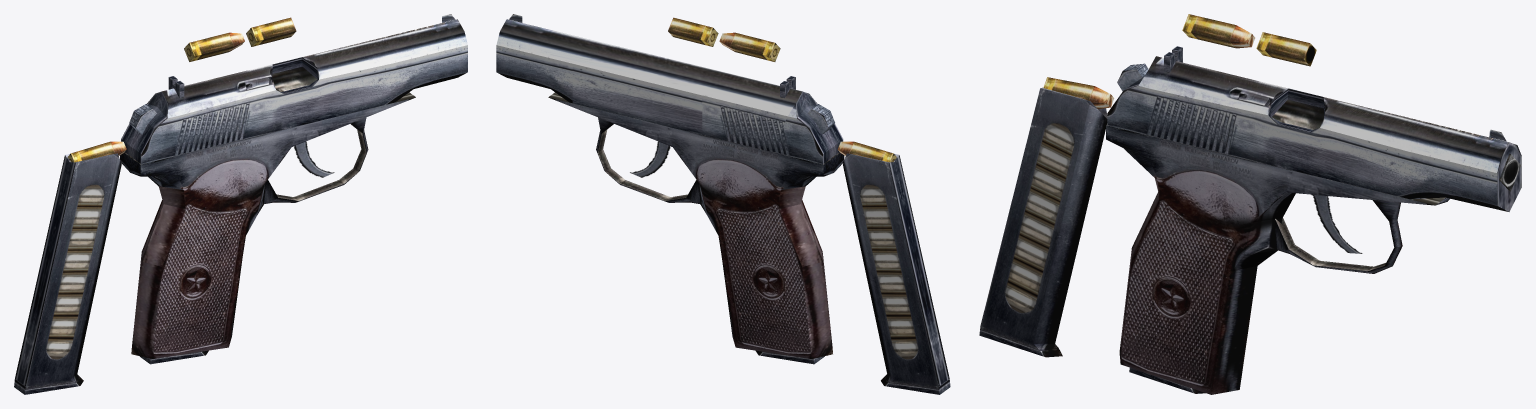
3 renders of one model, left to right at view 1: azimuth 30°, elevation 25°; view 2: azimuth 150°, elevation 25°; view 3: azimuth 330°, elevation 25°, orthographic. The views are drawn at different scales.
Visible parts, largest first — view 1: Makarov_Body, Makarov_Slide, Makarov_Mag_Full, 380, Makarov_Hammer, 380_Shell; view 2: Makarov_Body, Makarov_Slide, Makarov_Mag_Full, 380, Makarov_Hammer, 380_Shell; view 3: Makarov_Body, Makarov_Slide, Makarov_Mag_Full, 380, 380_Shell, Makarov_Hammer.
Part boxes in pixels (box(x1,y1,x2,y2)): Makarov_Body: box(120, 66, 415, 358); Makarov_Slide: box(121, 14, 467, 164); Makarov_Mag_Full: box(14, 141, 126, 394); 380: box(184, 32, 244, 61); Makarov_Hammer: box(129, 104, 334, 177); 380_Shell: box(246, 17, 296, 46); Makarov_Body: box(548, 92, 844, 358); Makarov_Slide: box(496, 14, 843, 164); Makarov_Mag_Full: box(837, 141, 950, 394); 380: box(719, 32, 780, 61); Makarov_Hammer: box(630, 104, 834, 177); 380_Shell: box(668, 17, 718, 46); Makarov_Body: box(1106, 100, 1521, 394); Makarov_Slide: box(1107, 46, 1521, 211); Makarov_Mag_Full: box(979, 77, 1113, 357); 380: box(1182, 14, 1254, 48); 380_Shell: box(1256, 32, 1316, 66); Makarov_Hammer: box(1117, 63, 1362, 253).
Size of the model in its own units: 2.11 by 1.44 by 0.1717.
4 materials, 4 textured.
